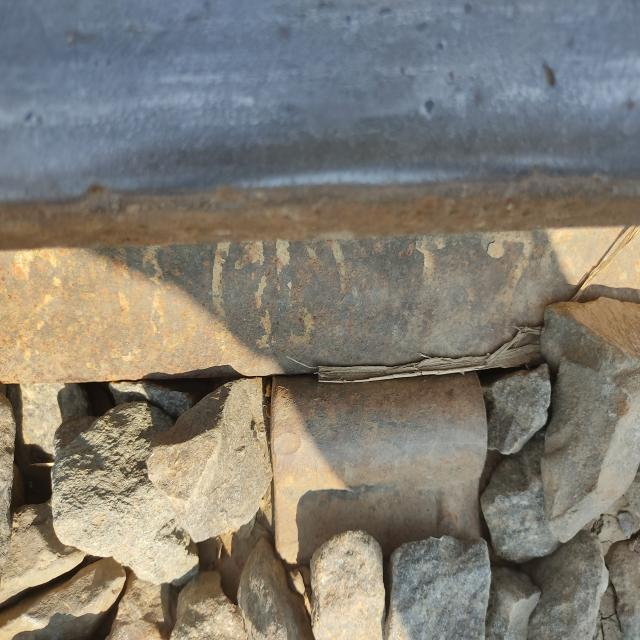non-defective: (217, 266, 509, 572)
